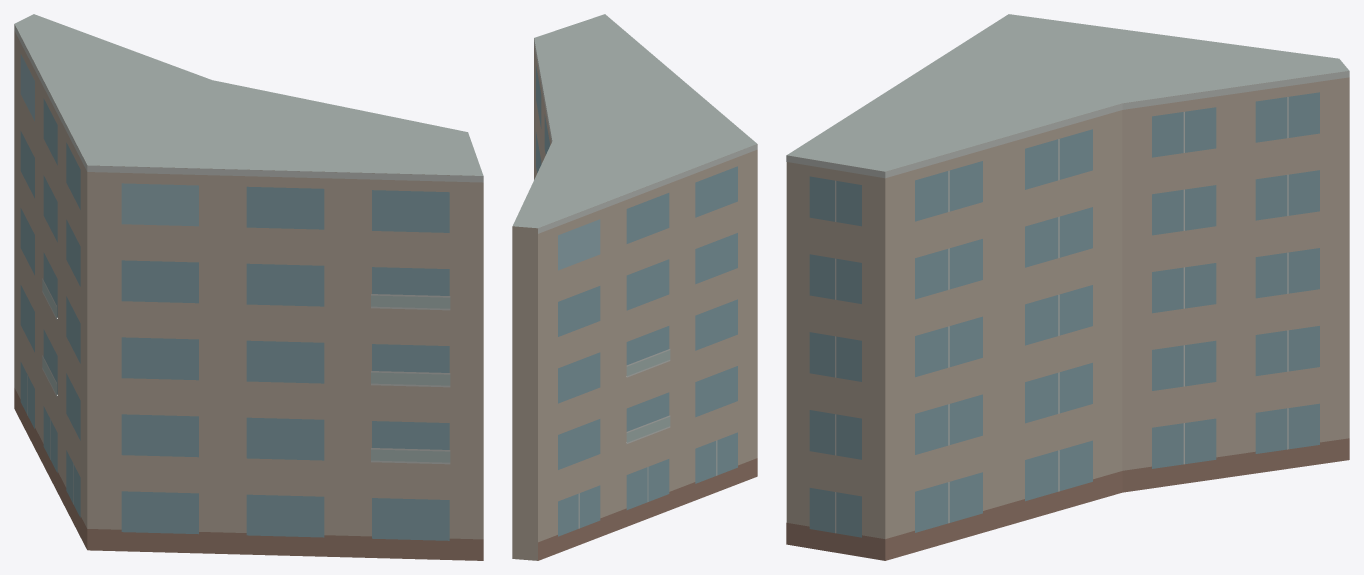
Rendered from survey-upis-32518055.glb.
3 views of the same model, side by side, from view 1: azimuth 30°, elevation 25°; view 2: azimuth 150°, elevation 25°; view 3: azimuth 270°, elevation 25° (orthographic). The views are drawn at different scales.
Parts seen in each view (by area): view 1: survey-upis-32518055.tmp; view 2: survey-upis-32518055.tmp; view 3: survey-upis-32518055.tmp.
Boxes of the visible parts, box(x1,y1,x2,y2) form: survey-upis-32518055.tmp: box(14, 14, 483, 560); survey-upis-32518055.tmp: box(512, 14, 757, 560); survey-upis-32518055.tmp: box(786, 14, 1349, 560).
Bounding box in the file's own units: 12.57 × 14.45 × 18.95.
